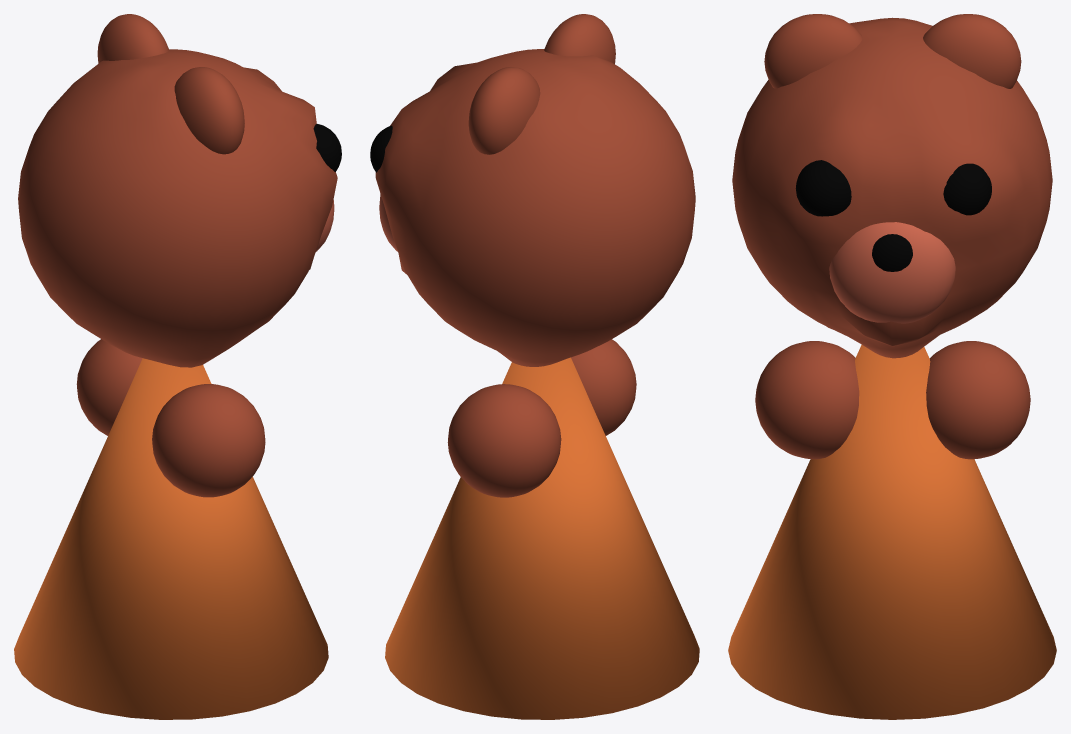
File: secondBear.fbx
The picture shows the model from 3 angles, left to right: view 1: azimuth 30°, elevation 25°; view 2: azimuth 150°, elevation 25°; view 3: azimuth 270°, elevation 25°; orthographic projection. The views are drawn at different scales.
Parts seen in each view (by area): view 1: Sphere, Cone, Sphere.001, Sphere.004, Sphere.002, Sphere.003, Sphere.008; view 2: Sphere, Cone, Sphere.002, Sphere.003, Sphere.001, Sphere.004, Sphere.007; view 3: Cone, Sphere, Sphere.002, Sphere.001, Sphere.005, Sphere.003, Sphere.004, Sphere.008, Sphere.007, Sphere.006.
Boxes of the visible parts, x1,y1,x2,y2 form: Sphere: (18,49,337,367); Cone: (14,358,328,719); Sphere.001: (152,384,265,497); Sphere.004: (174,67,244,154); Sphere.002: (76,339,142,435); Sphere.003: (97,14,169,63); Sphere.008: (313,124,341,171); Sphere: (375,49,695,366); Cone: (385,357,699,719); Sphere.002: (447,384,561,497); Sphere.003: (468,67,540,154); Sphere.001: (571,339,636,435); Sphere.004: (544,14,615,63); Sphere.007: (370,125,392,172); Cone: (728,345,1056,719); Sphere: (732,17,1052,358); Sphere.002: (926,341,1030,459); Sphere.001: (755,341,859,459); Sphere.005: (829,222,955,323); Sphere.003: (923,14,1021,88); Sphere.004: (764,14,862,88); Sphere.008: (795,160,851,216); Sphere.007: (943,163,991,215); Sphere.006: (872,234,912,271).
Bounding box in the file's own units: 198 × 398 × 187.
